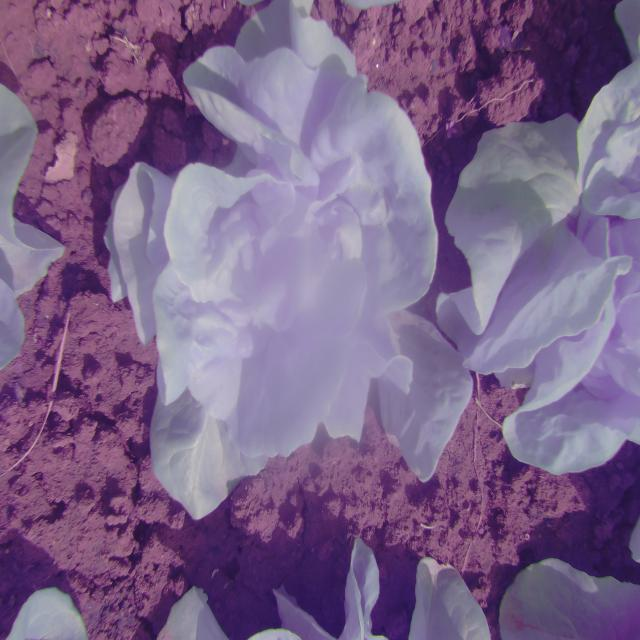vege: (105, 0, 468, 524)
